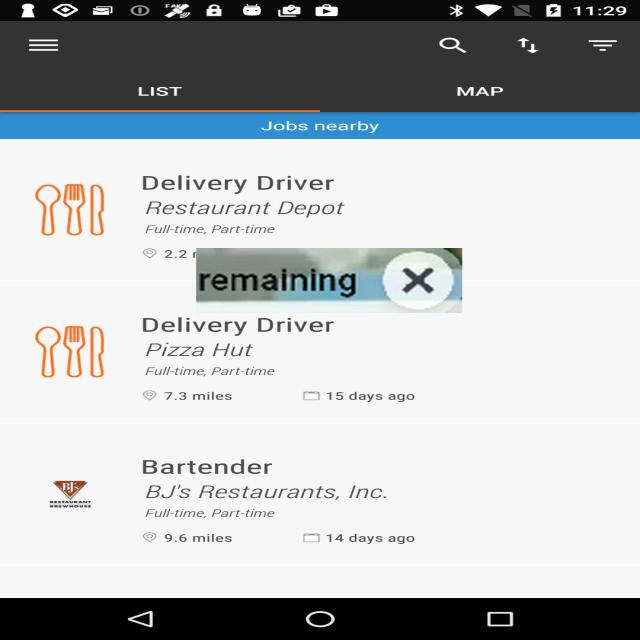misdirection: (196, 248, 462, 313)
